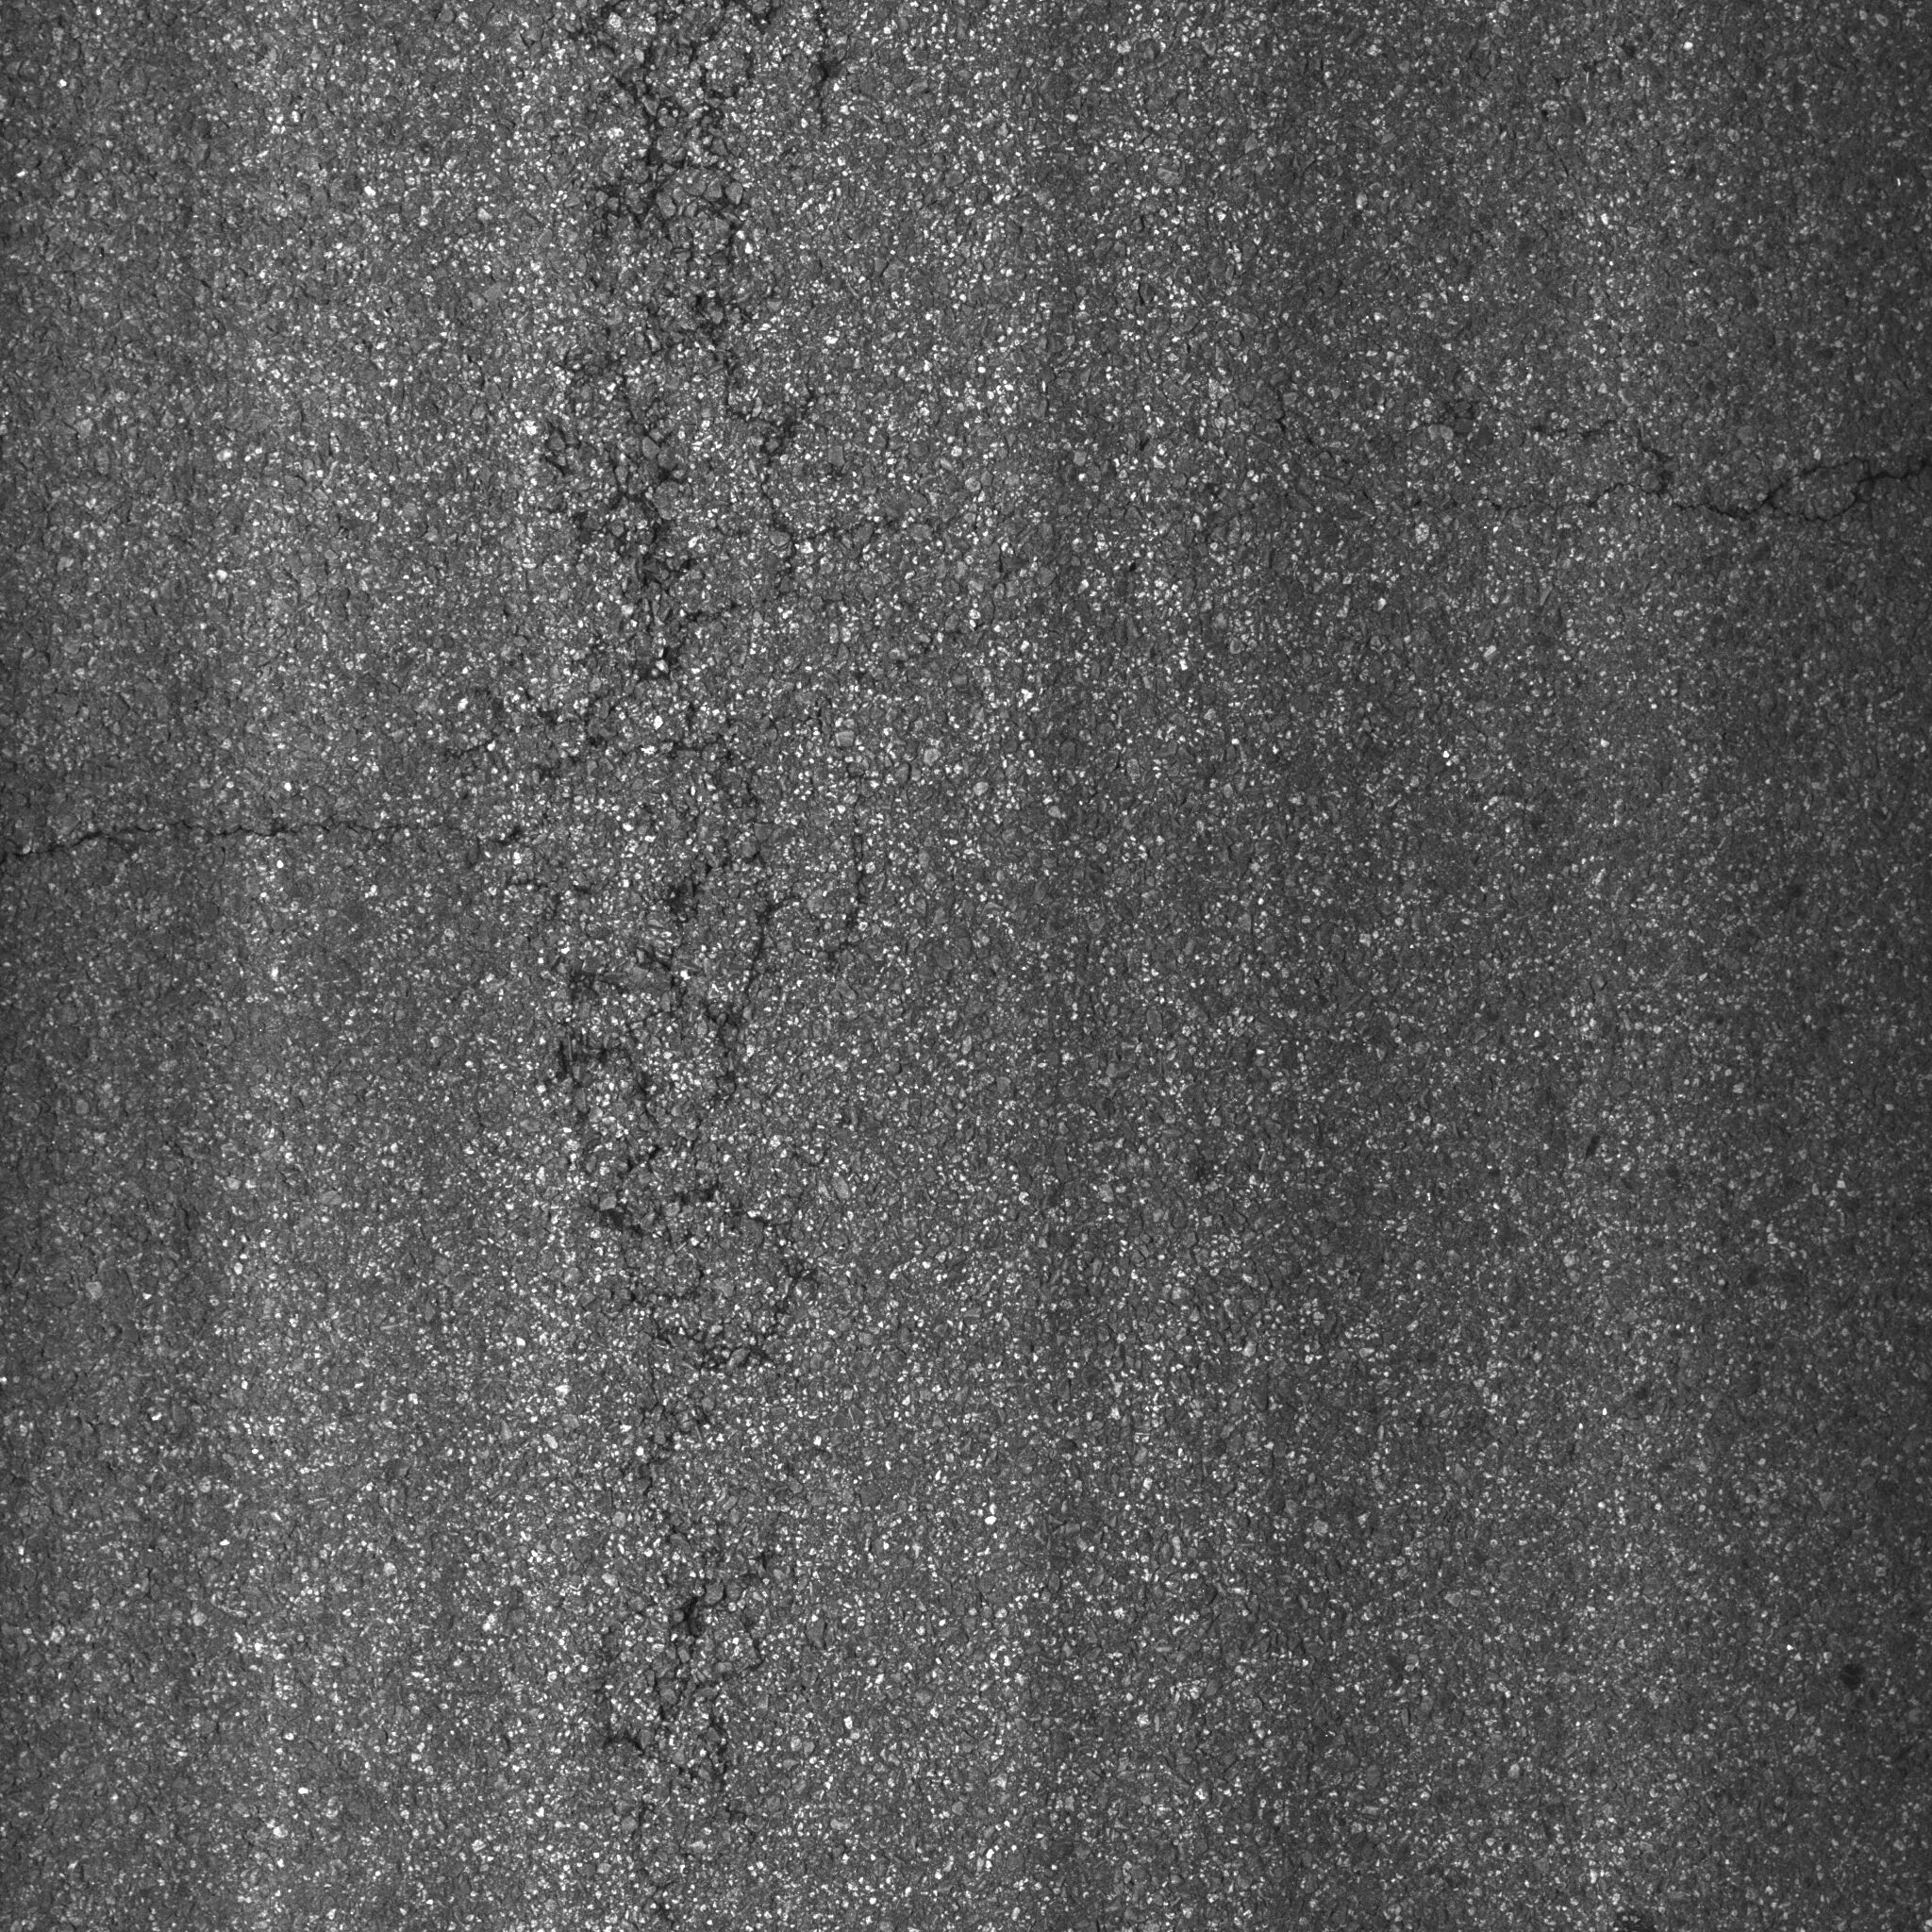alligator: (372, 14, 883, 1727)
